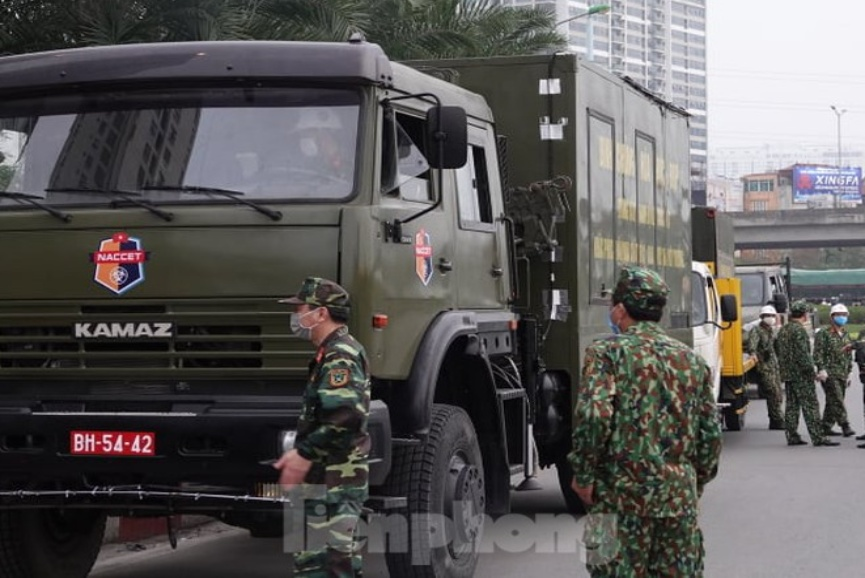plate: (71, 430, 159, 456)
